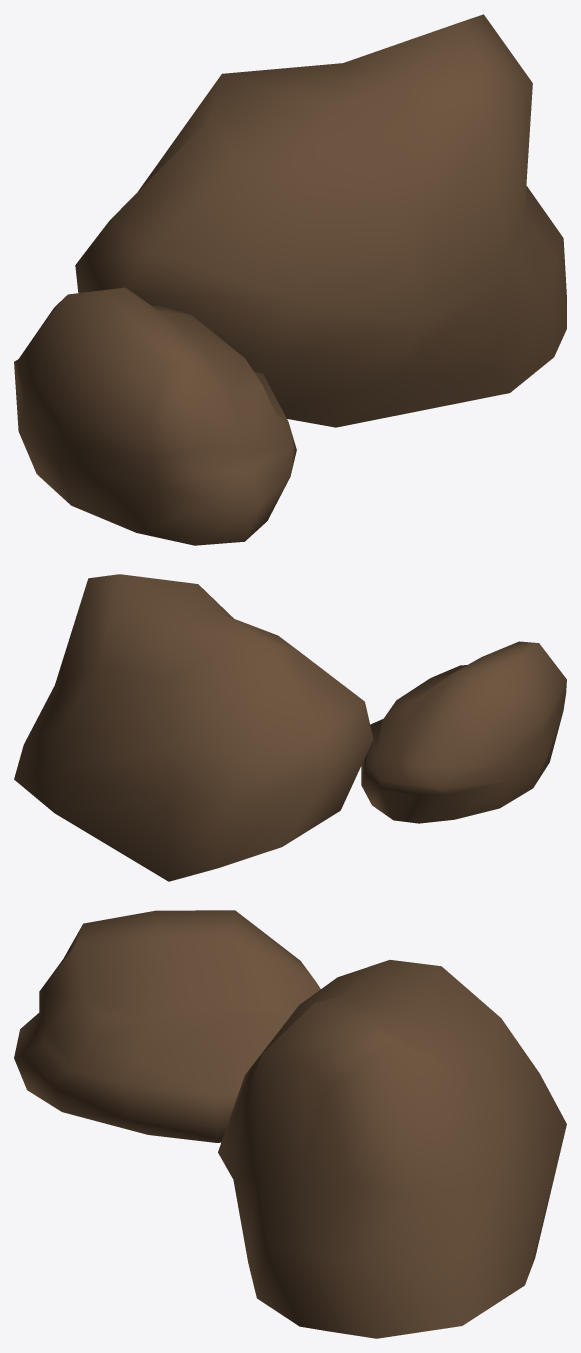
Rendered from shituo6.FBX.
3 views of the same model, one above another, from view 1: azimuth 30°, elevation 25°; view 2: azimuth 150°, elevation 25°; view 3: azimuth 270°, elevation 25° (orthographic). The views are drawn at different scales.
Parts seen in each view (by area): view 1: 对象006, 对象007; view 2: 对象006, 对象007; view 3: 对象006, 对象007.
Boxes of the visible parts, x1,y1,x2,y2 form: 对象006: [75, 14, 566, 427]; 对象007: [14, 287, 296, 545]; 对象006: [14, 574, 373, 881]; 对象007: [361, 641, 566, 823]; 对象006: [218, 960, 566, 1338]; 对象007: [14, 910, 320, 1142].
Bounding box in the file's own units: 2.01 × 1.07 × 1.74.
